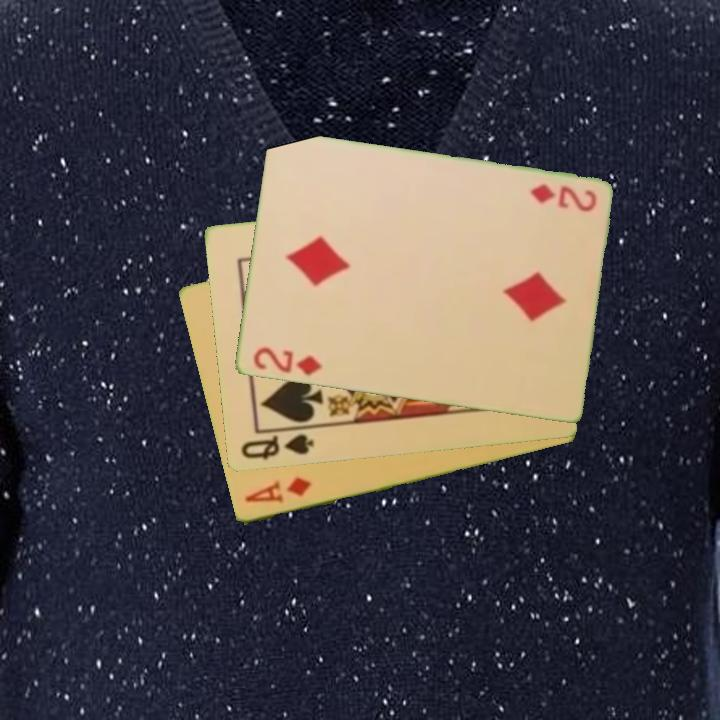2d: (249, 344, 325, 379), (525, 181, 599, 215)
Ad: (240, 474, 314, 507)
Qs: (237, 431, 317, 463)
